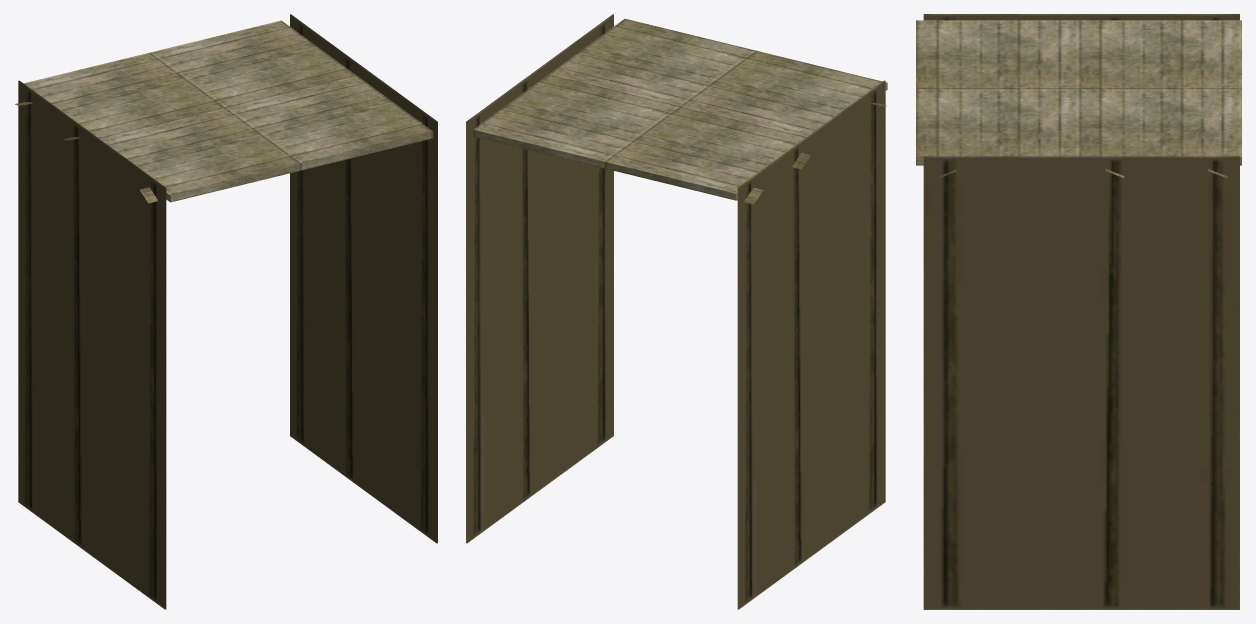
Rendered from thm_endr_lake_platform_square_s01_l3.fbx.
3 renders of one model, left to right at view 1: azimuth 30°, elevation 25°; view 2: azimuth 150°, elevation 25°; view 3: azimuth 270°, elevation 25°, orthographic. The views are drawn at different scales.
Visible parts, largest first — view 1: mesh_node; view 2: mesh_node; view 3: mesh_node.
Boxes of the visible parts, <box> form: mesh_node: <box>15,14,437,609</box>; mesh_node: <box>466,14,887,609</box>; mesh_node: <box>916,14,1241,609</box>.
Size of the model in its own units: 8.68 by 12.27 by 8.
2 materials, 2 textured.
